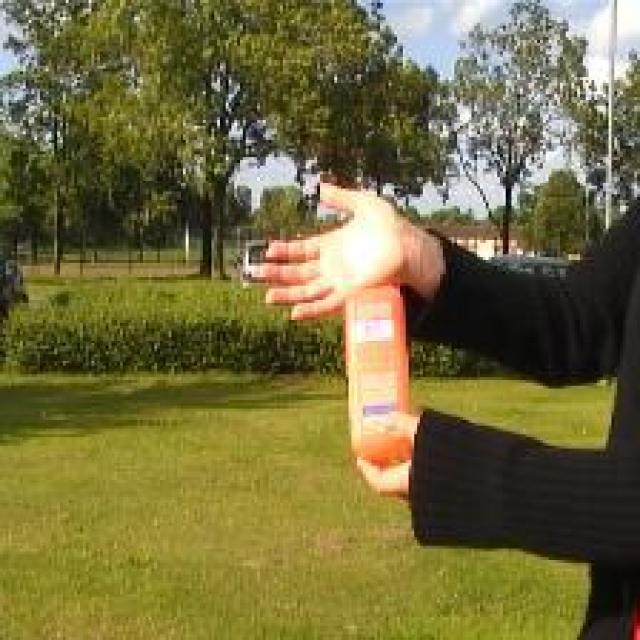other: (262, 155, 414, 464)
